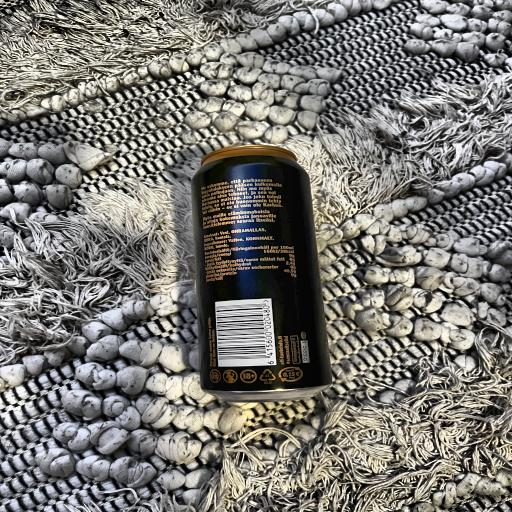karhu: (171, 128, 330, 410)
